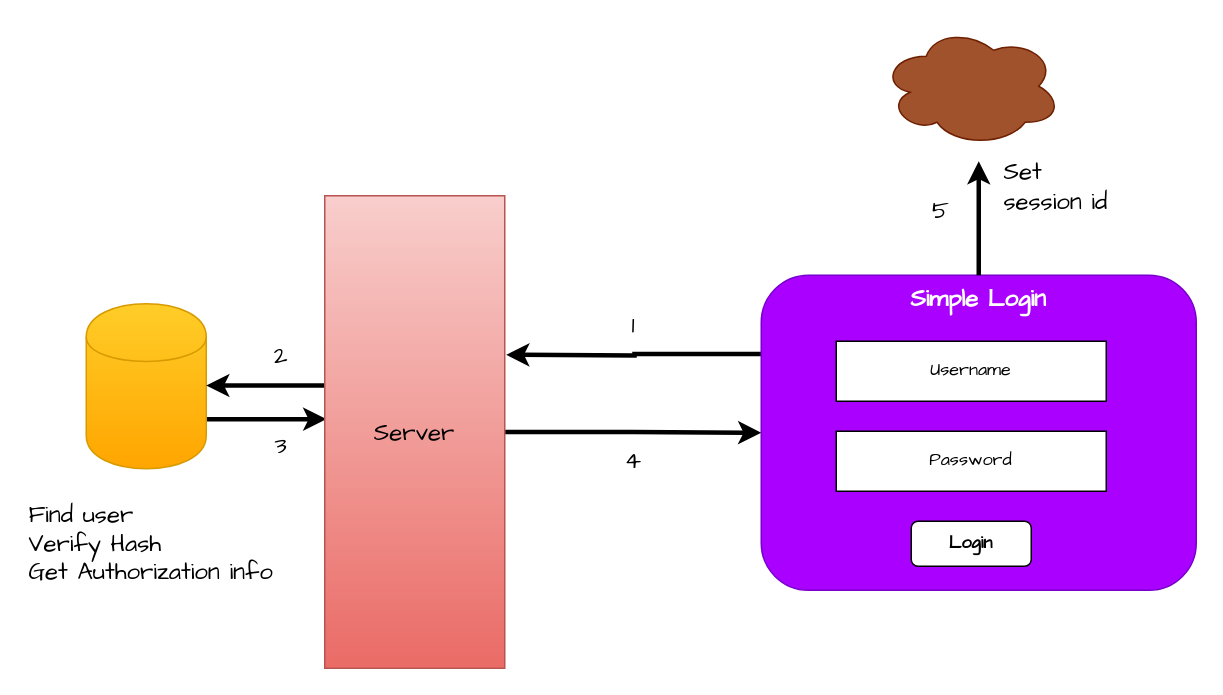
This 1223x695 diagram has some shape labels left out. Each missing label, with the centre of its shape:
"Cookie" goes at point 970,85.
"Database" goes at point 145,385.
